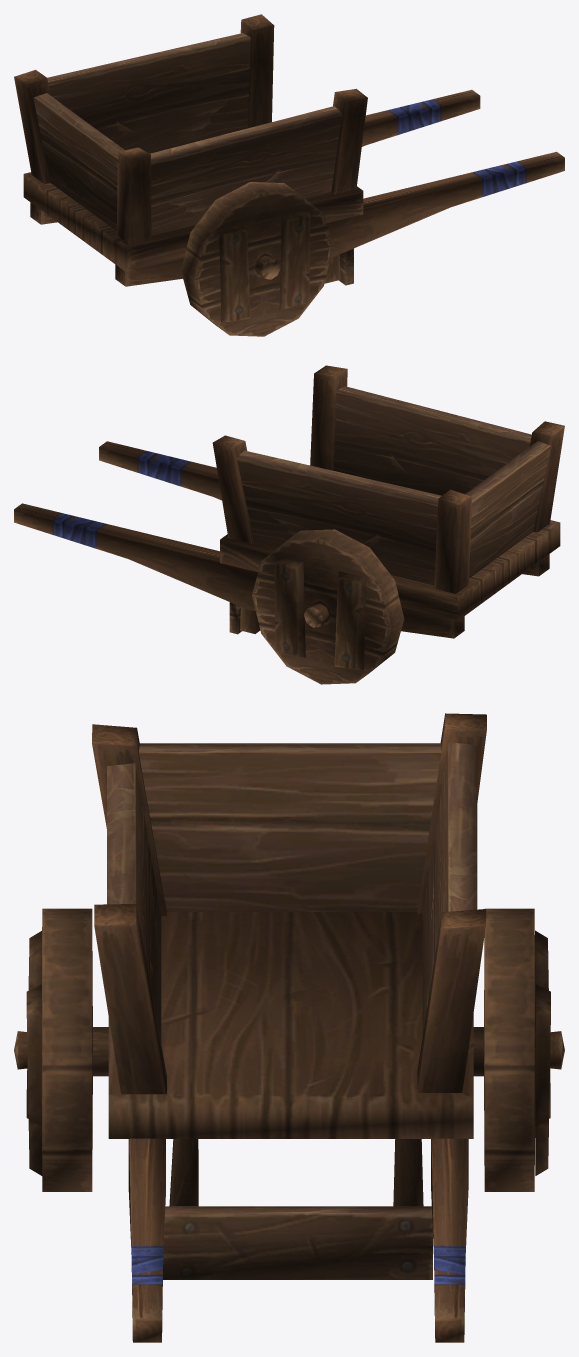
File: 6hu_garrison_farm_wagon.obj
The picture shows the model from 3 angles, top to bottom: view 1: azimuth 30°, elevation 25°; view 2: azimuth 150°, elevation 25°; view 3: azimuth 270°, elevation 25°; orthographic projection. The views are drawn at different scales.
Visible parts, largest first — view 1: 6HU_GARRISON_FARM_WAGON0; view 2: 6HU_GARRISON_FARM_WAGON0; view 3: 6HU_GARRISON_FARM_WAGON0.
Boxes of the visible parts, x1,y1,x2,y2 form: 6HU_GARRISON_FARM_WAGON0: (14,14,564,336); 6HU_GARRISON_FARM_WAGON0: (14,365,564,684); 6HU_GARRISON_FARM_WAGON0: (14,713,564,1342).
Bounding box in the file's own units: 3.75 × 1.6 × 2.22.
1 material, 1 textured.
